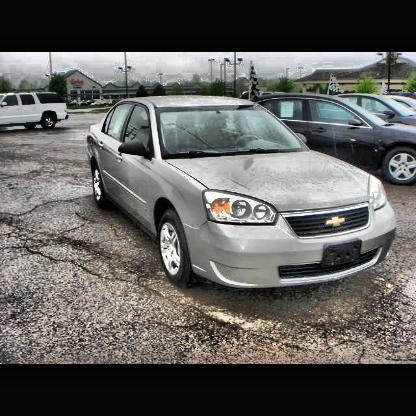Chevrolet Malibu Sedan 2007: (88, 101, 396, 290)
